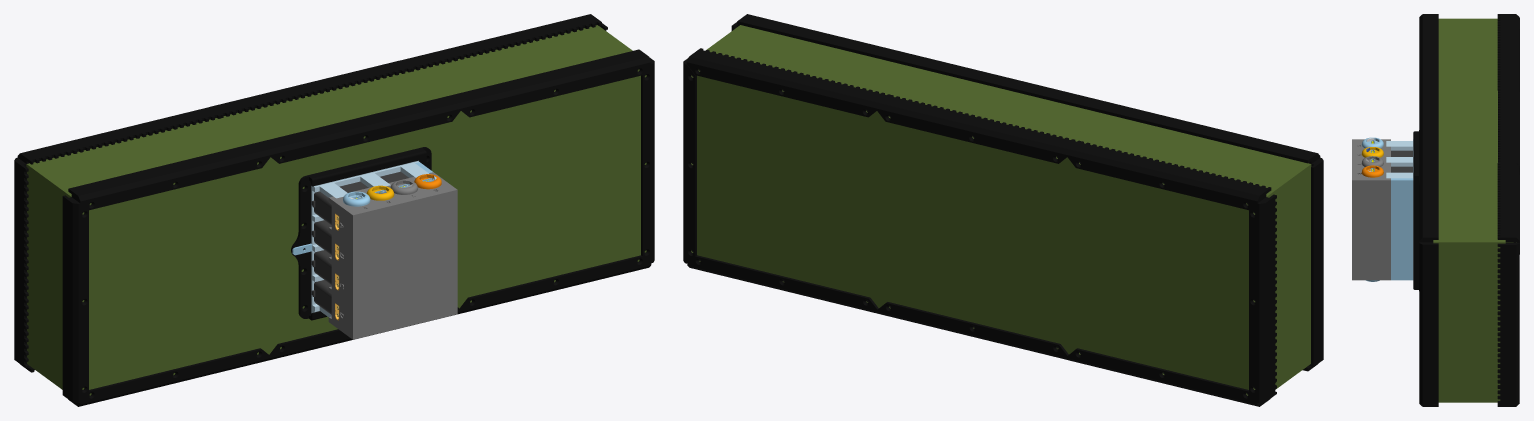
File: drone_small_stp_without_prop.fbx
The picture shows the model from 3 angles, left to right: view 1: azimuth 30°, elevation 25°; view 2: azimuth 150°, elevation 25°; view 3: azimuth 270°, elevation 25°; orthographic projection. The views are drawn at different scales.
Parts seen in each view (by area): view 1: Body1 (×19); view 2: Body1 (×15); view 3: Body1 (×19).
Part boxes in pixels (x1,y1,x2,y2): Body1 (×19): [14, 14, 654, 406]; Body1 (×15): [683, 14, 1323, 406]; Body1 (×19): [1352, 14, 1519, 404].
Size of the model in its own units: 612 by 212 by 190.
